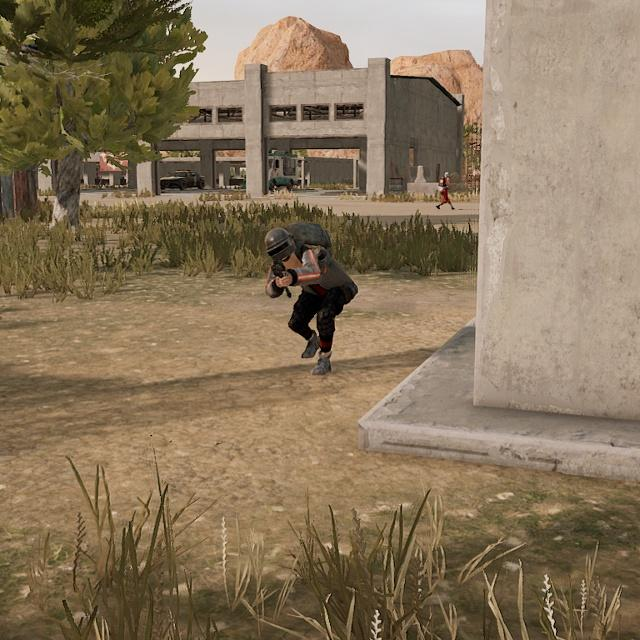head: (264, 226, 297, 263), (443, 170, 452, 179)
people: (262, 222, 359, 376), (435, 170, 456, 211)
